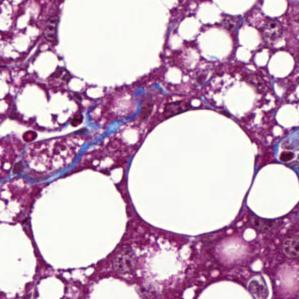steatosis: (128, 106, 256, 234), (25, 168, 126, 274), (265, 45, 298, 82)
